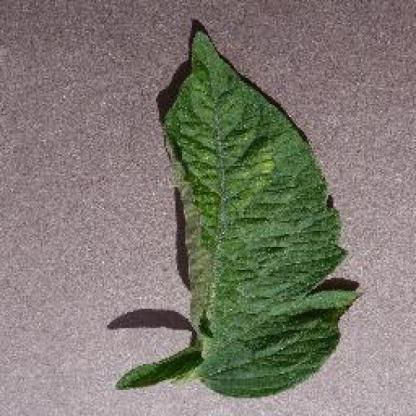Tomato_Spider_Mites: (119, 32, 362, 395)
